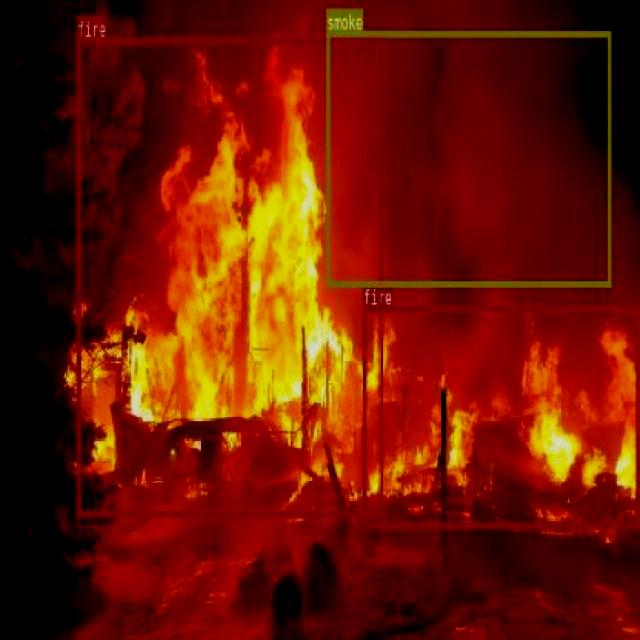fire: (76, 37, 382, 516), (362, 304, 638, 526)
smoke: (325, 29, 610, 286)
